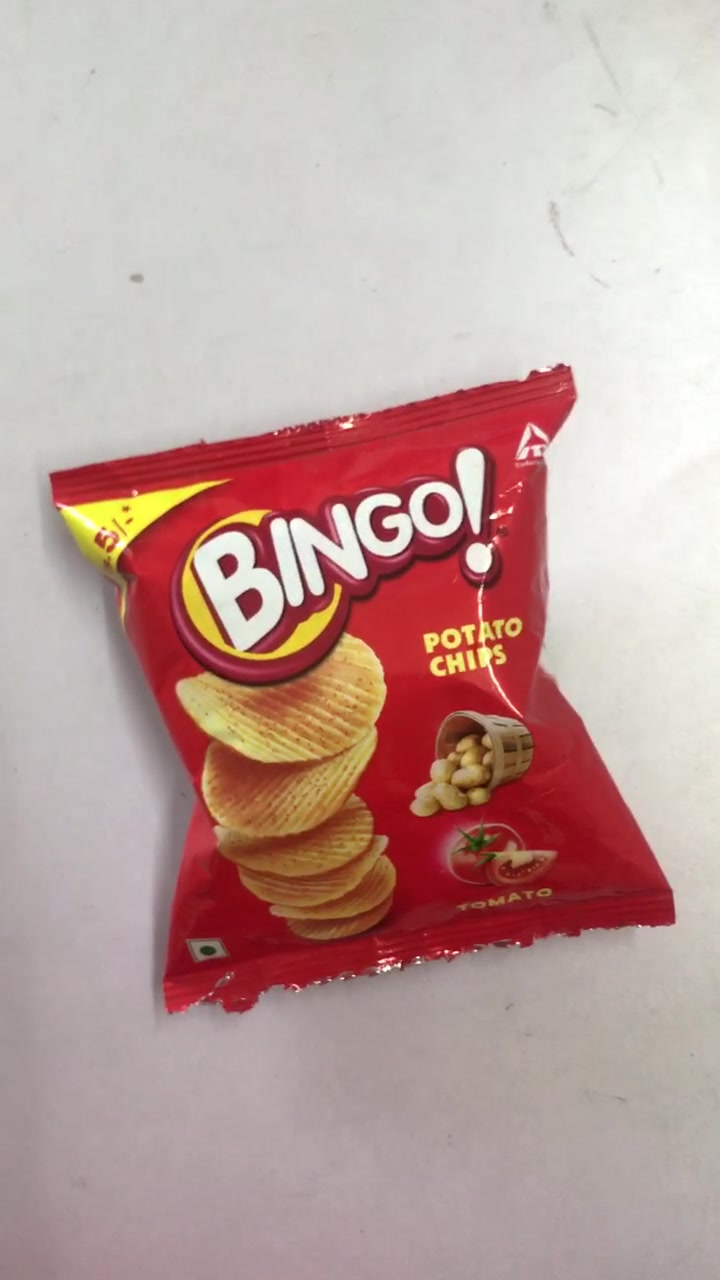Bingo: (67, 375, 676, 993)
